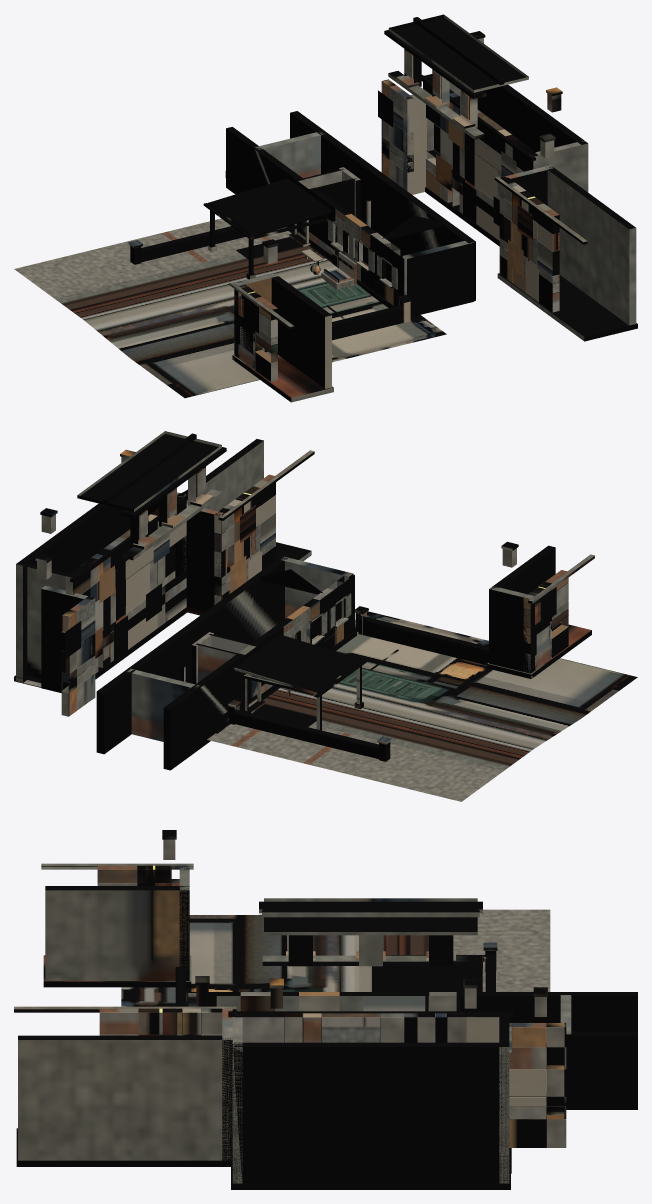
File: environment.obj
3 renders of one model, top to bottom at view 1: azimuth 30°, elevation 25°; view 2: azimuth 150°, elevation 25°; view 3: azimuth 270°, elevation 25°, orthographic. The views are drawn at different scales.
Parts seen in each view (by area): view 1: st_maria_praca_TH_RENDER_EnvironmentBakedAtlas; view 2: st_maria_praca_TH_RENDER_EnvironmentBakedAtlas; view 3: st_maria_praca_TH_RENDER_EnvironmentBakedAtlas.
Boxes of the visible parts, x1,y1,x2,y2 form: st_maria_praca_TH_RENDER_EnvironmentBakedAtlas: [14, 14, 637, 402]; st_maria_praca_TH_RENDER_EnvironmentBakedAtlas: [14, 431, 637, 801]; st_maria_praca_TH_RENDER_EnvironmentBakedAtlas: [14, 830, 637, 1189].
Bounding box in the file's own units: 33.39 × 13.22 × 32.01.
Materials: 1 (1 with a texture image).
